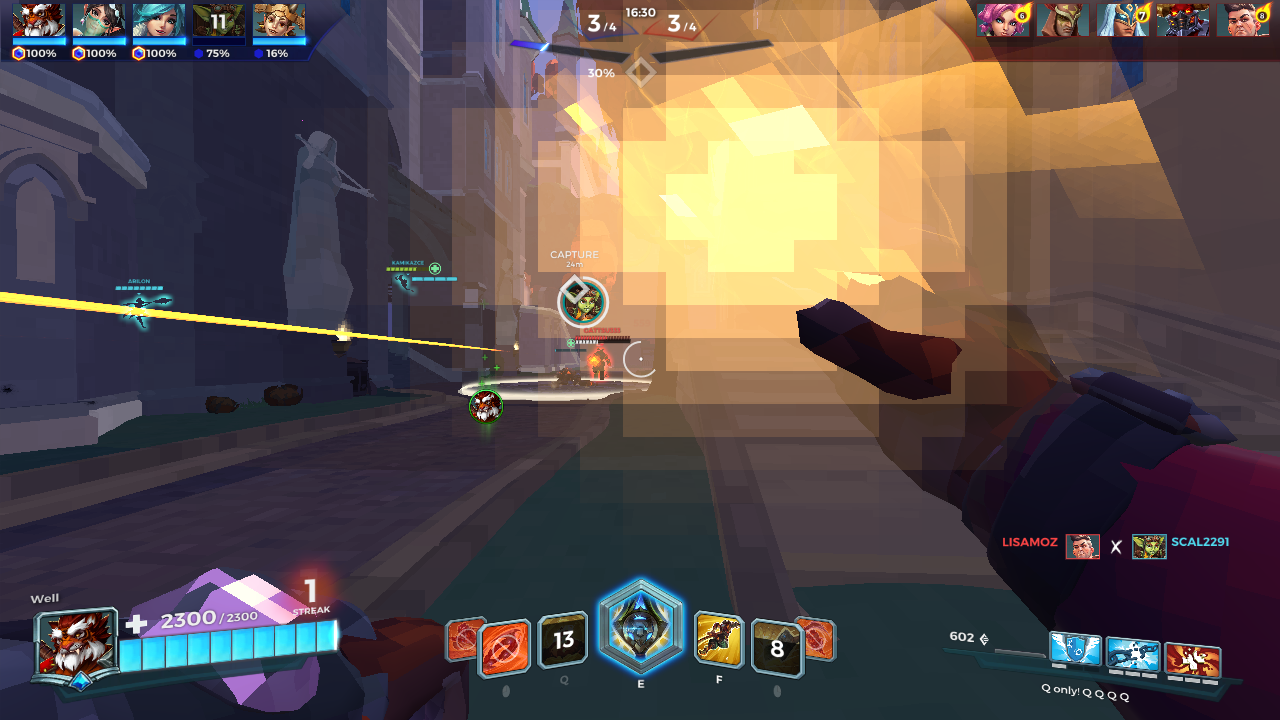model: (586, 346, 615, 378)
